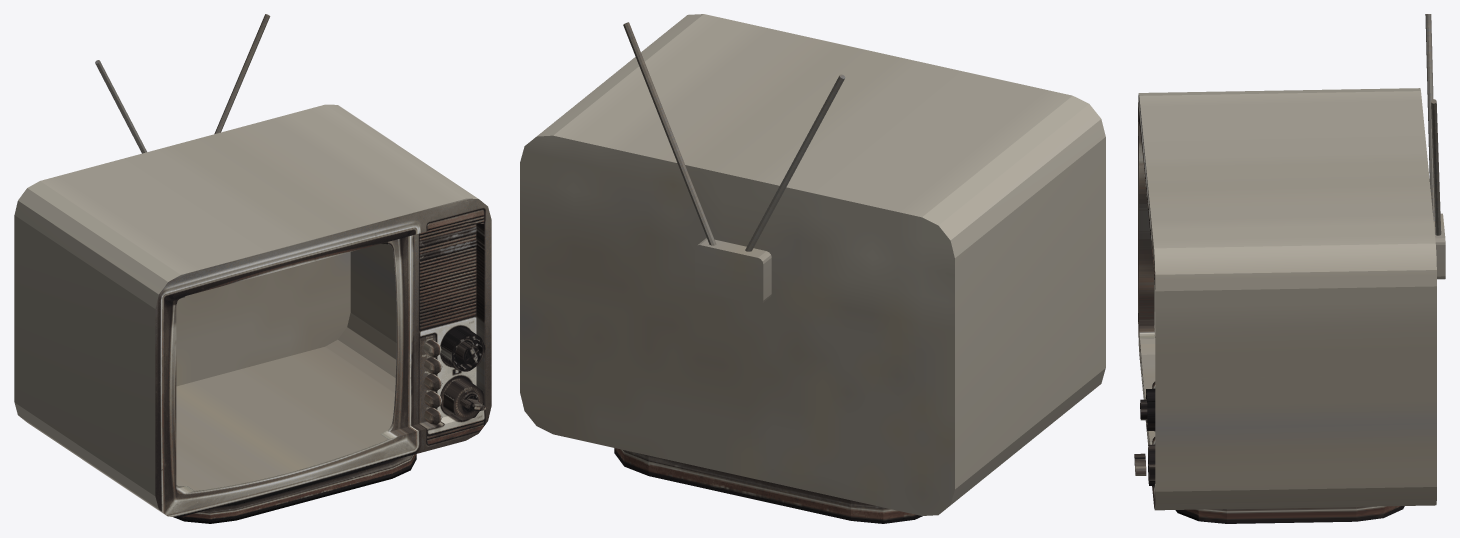
The picture shows the model from 3 angles, left to right: view 1: azimuth 30°, elevation 25°; view 2: azimuth 150°, elevation 25°; view 3: azimuth 270°, elevation 25°; orthographic projection. The views are drawn at different scales.
Parts seen in each view (by area): view 1: TV; view 2: TV; view 3: TV.
Boxes of the visible parts, x1,y1,x2,y2 form: TV: (14, 14, 491, 523); TV: (520, 14, 1105, 523); TV: (1134, 14, 1445, 523).
Bounding box in the file's own units: 0.4574 × 0.4629 × 0.3257.
1 material, 1 textured.
